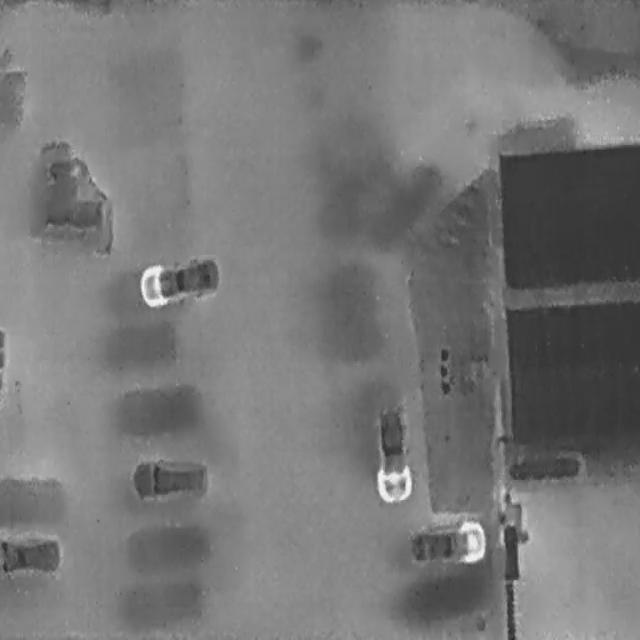Car: (136, 248, 221, 312), (371, 402, 414, 502), (405, 516, 486, 568), (131, 458, 209, 500), (0, 534, 60, 576)
